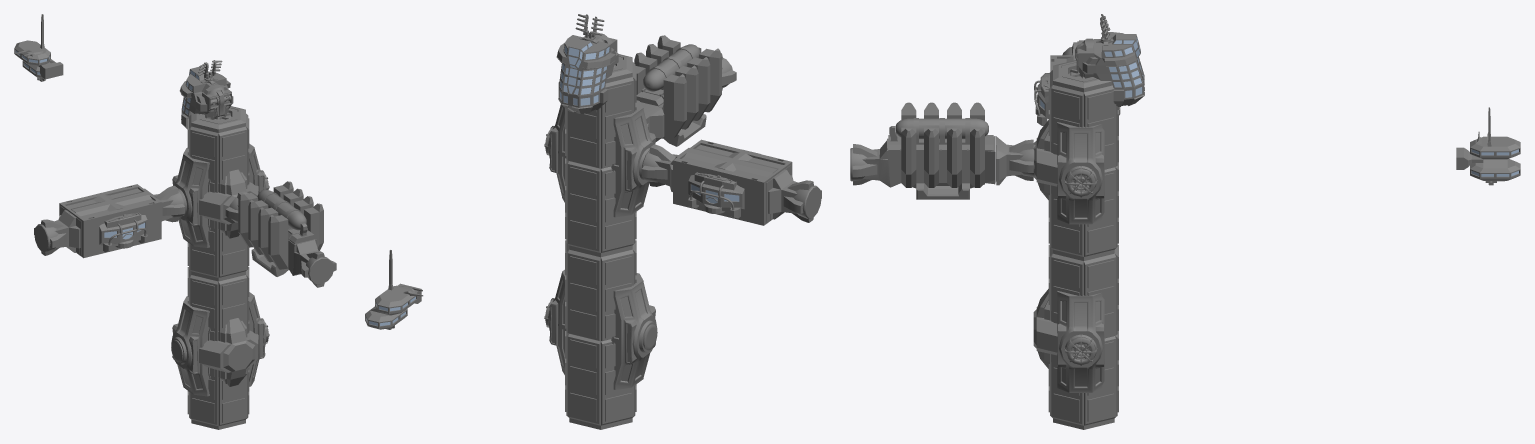
Rendered from homebase.fbx.
The picture shows the model from 3 angles, left to right: view 1: azimuth 30°, elevation 25°; view 2: azimuth 150°, elevation 25°; view 3: azimuth 270°, elevation 25°; orthographic projection. The views are drawn at different scales.
Visible parts, largest first — view 1: Hex Tube.001, Hex Tube.002, block.finger.001, Cargo box.002, tooCompBlock.001, hardpoint.base.nose.002, tooCompBlock.003, hardpoint.base.nose.001, hardpoint.base.tower.005, Window Block.002, hardpoint.base.tower.004, Side Bridge.000 (+7 smaller); view 2: Hex Tube.002, Hex Tube.001, block.finger.001, Cargo box.002, tooCompBlock.001, Bridge.BeerBelly.001, tooCompBlock.003, hardpoint.base.tower.005, Window Block.003, Side Bridge.000, Tank.003, hardpoint.base.tower.003 (+4 smaller); view 3: Hex Tube.001, Hex Tube.002, block.finger.001, tooCompBlock.002, tooCompBlock.004, Bridge.BeerBelly.001, Side Bridge.000, Tank.003, hardpoint.base.tower.002, hardpoint.base.tower.004, hardpoint.base.nose.002, hardpoint.base.nose.001 (+3 smaller).
Part boxes in pixels (left/top/right/bottom): Hex Tube.001: left=187, top=106, right=249, bottom=281; Hex Tube.002: left=187, top=267, right=249, bottom=429; block.finger.001: left=238, top=181, right=323, bottom=276; Cargo box.002: left=59, top=184, right=161, bottom=258; tooCompBlock.001: left=171, top=296, right=210, bottom=396; hardpoint.base.nose.002: left=199, top=318, right=258, bottom=386; tooCompBlock.003: left=172, top=147, right=210, bottom=247; hardpoint.base.nose.001: left=199, top=169, right=258, bottom=238; hardpoint.base.tower.005: left=34, top=210, right=80, bottom=255; Window Block.002: left=99, top=212, right=147, bottom=252; hardpoint.base.tower.004: left=292, top=239, right=336, bottom=287; Side Bridge.000: left=14, top=14, right=63, bottom=81; Hex Tube.002: left=565, top=240, right=636, bottom=429; Hex Tube.001: left=565, top=54, right=636, bottom=257; block.finger.001: left=634, top=35, right=721, bottom=146; Cargo box.002: left=673, top=139, right=792, bottom=225; tooCompBlock.001: left=611, top=273, right=657, bottom=389; Bridge.BeerBelly.001: left=556, top=35, right=618, bottom=113; tooCompBlock.003: left=611, top=100, right=655, bottom=217; hardpoint.base.tower.005: left=768, top=169, right=821, bottom=222; Window Block.003: left=688, top=172, right=744, bottom=218; Side Bridge.000: left=365, top=250, right=423, bottom=329; Tank.003: left=636, top=44, right=701, bottom=106; hardpoint.base.tower.003: left=641, top=144, right=689, bottom=191; Hex Tube.001: left=1048, top=60, right=1118, bottom=256; Hex Tube.002: left=1048, top=244, right=1118, bottom=429; block.finger.001: left=887, top=102, right=995, bottom=199; tooCompBlock.002: left=1057, top=122, right=1104, bottom=224; tooCompBlock.004: left=1057, top=291, right=1104, bottom=392; Bridge.BeerBelly.001: left=1080, top=32, right=1144, bottom=106; Side Bridge.000: left=1456, top=107, right=1520, bottom=185; Tank.003: left=888, top=118, right=993, bottom=151; hardpoint.base.tower.002: left=996, top=136, right=1035, bottom=185; hardpoint.base.tower.004: left=850, top=140, right=890, bottom=187; hardpoint.base.nose.002: left=1033, top=289, right=1057, bottom=368; hardpoint.base.nose.001: left=1033, top=120, right=1057, bottom=199.
Size of the model in its own units: 942 by 1404 by 2143.
